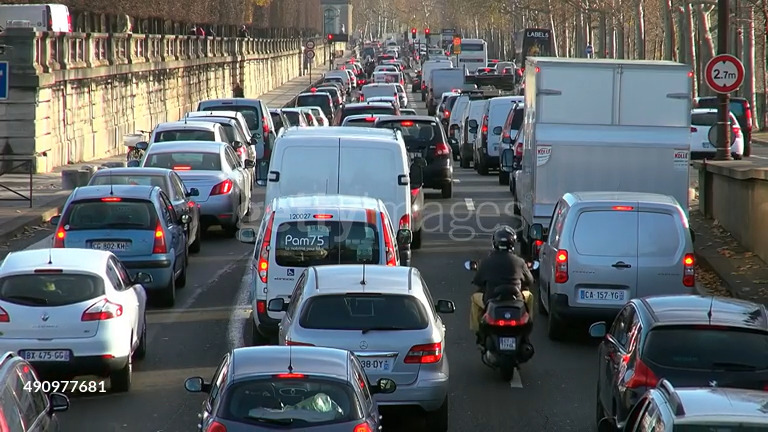car_number: (578, 289, 626, 303), (19, 350, 70, 361), (91, 241, 129, 250)
